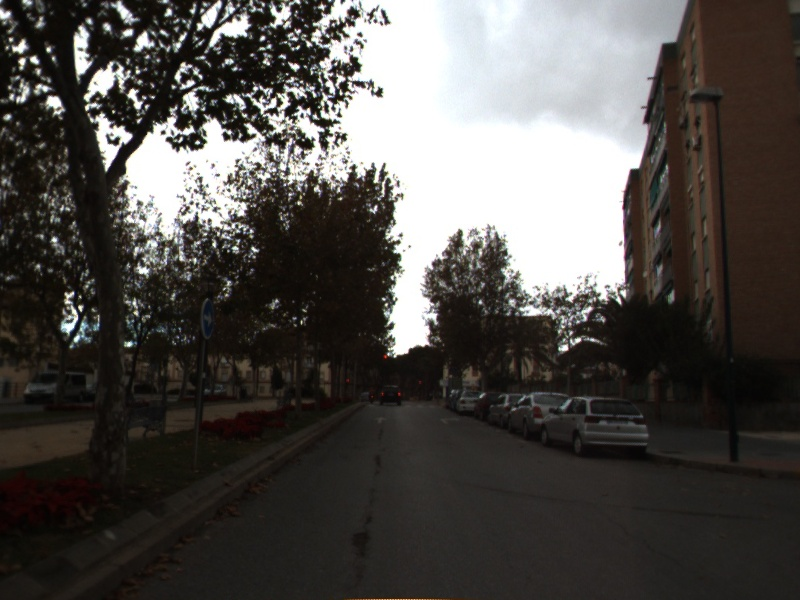RIGHT: (438, 415, 463, 427)
STRAIGHT: (371, 415, 389, 425)
